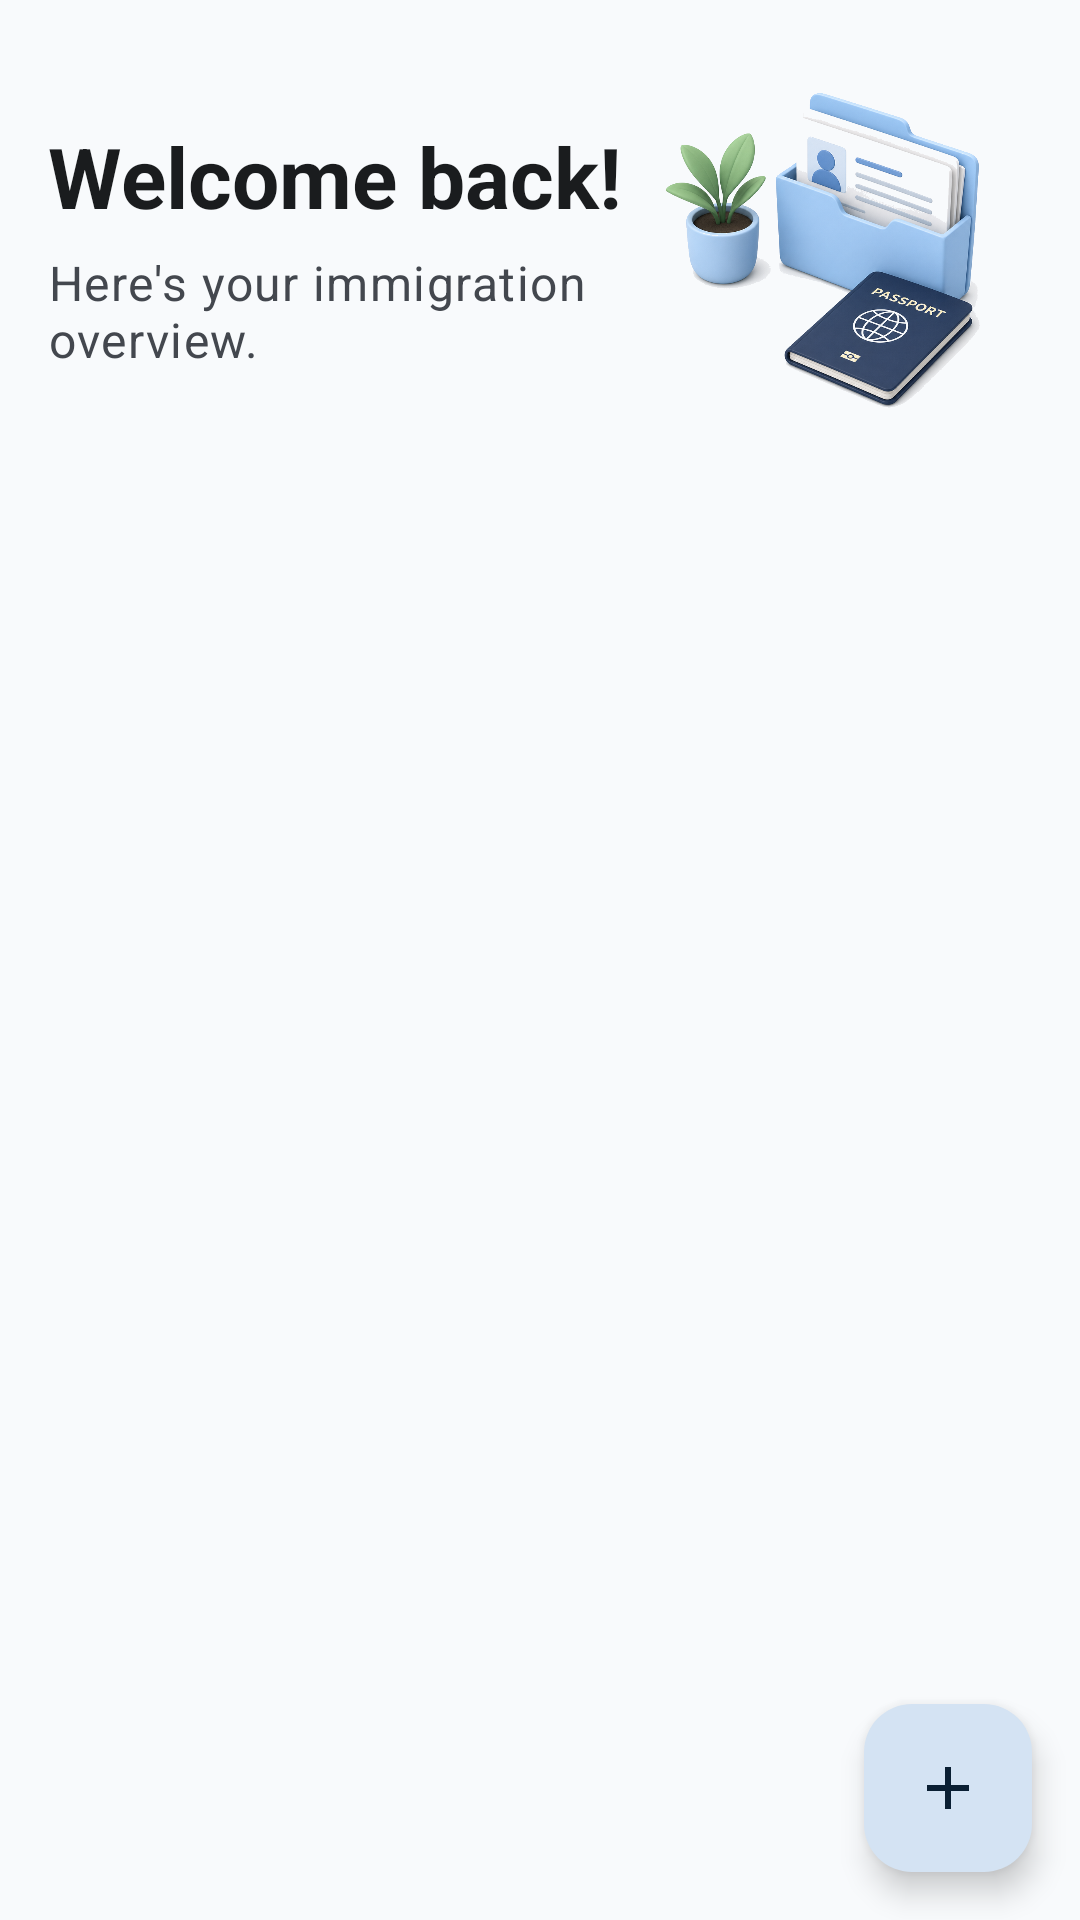

Named icons in this screenshot (1080 x 1920) and their bounding boxes, {"x1": x1, "y1": y1, "x2": x2, "y2": y2}:
Add family member: {"x1": 864, "y1": 1704, "x2": 1032, "y2": 1872}
Immigration overview illustration: {"x1": 666, "y1": 93, "x2": 979, "y2": 407}
